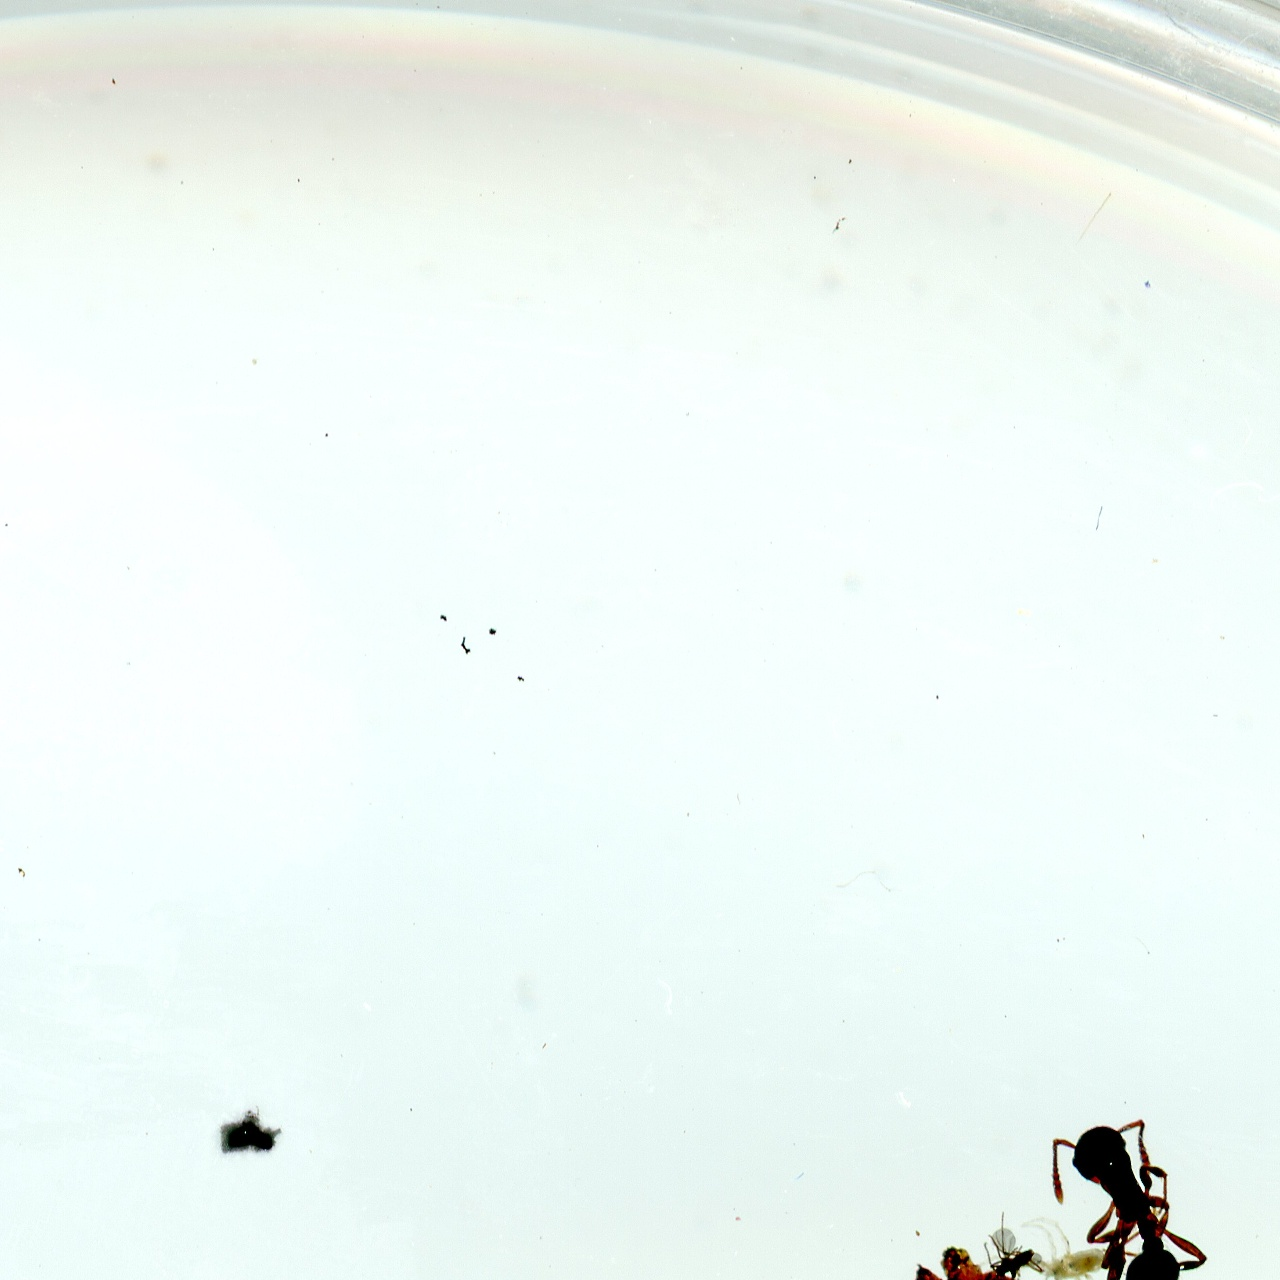arthropod: (1032, 1097, 1220, 1280), (1016, 1214, 1111, 1280), (980, 1210, 1046, 1280)
